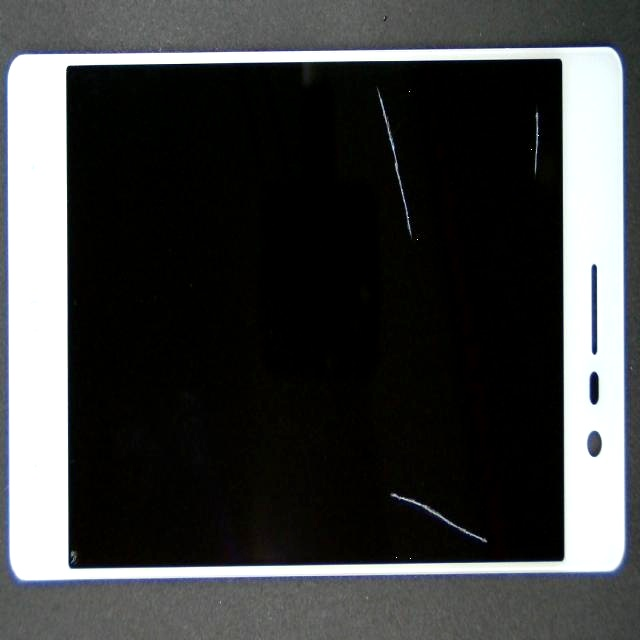scratch: (197, 221, 581, 640), (254, 90, 640, 285), (188, 19, 554, 127)
